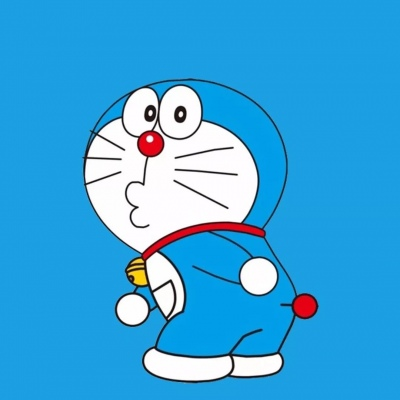Doraemon: (75, 71, 319, 381)
